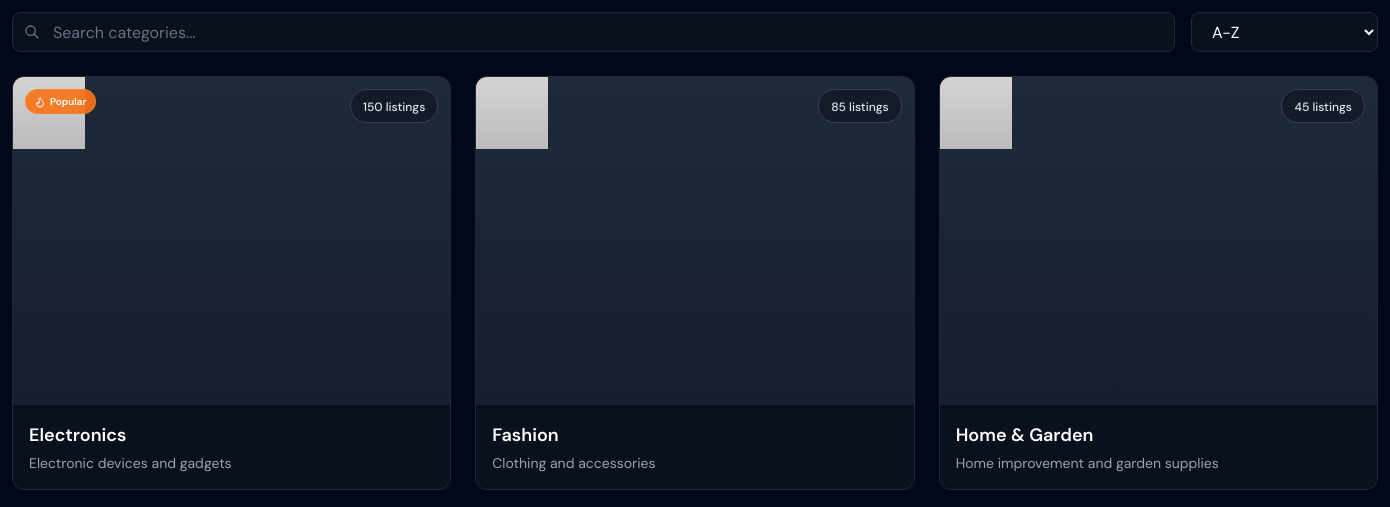
URL State Management Integration Tests › CategoryGrid - Built-in Search and Sort › should handle empty search results
The image size is (1390, 507).
Type "nonexistent category" into the field at x=594, y=32, box [12, 12, 1175, 52]
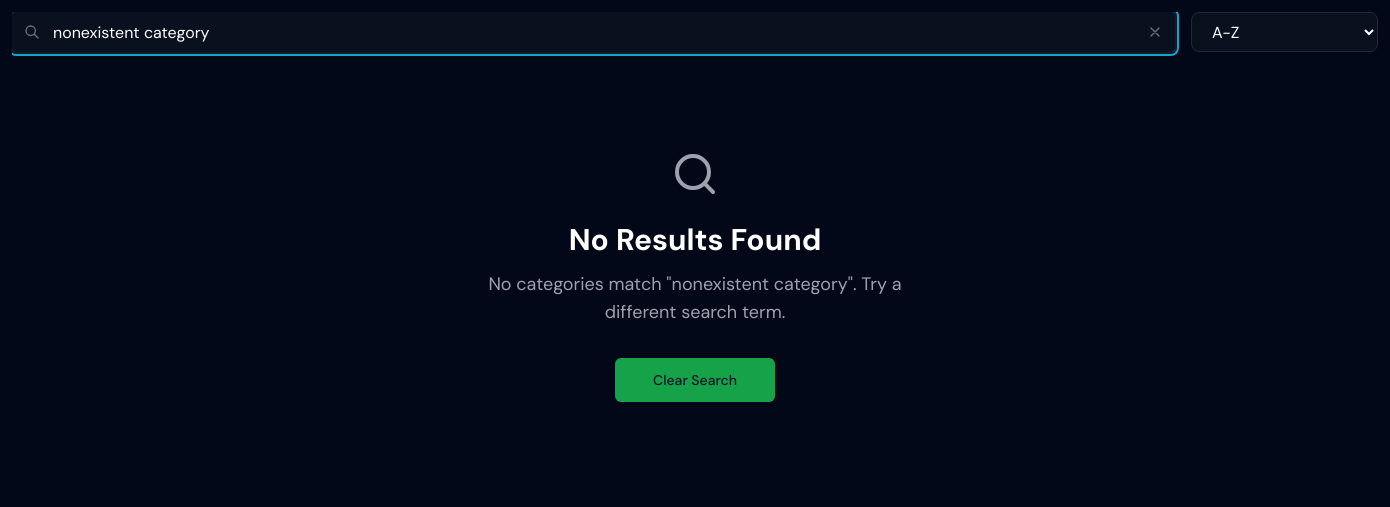
Check: the link "Electronics" is gone
Check: the link "Fashion" is gone
Check: the text "No categories match" is shown, box [488, 272, 902, 324]
